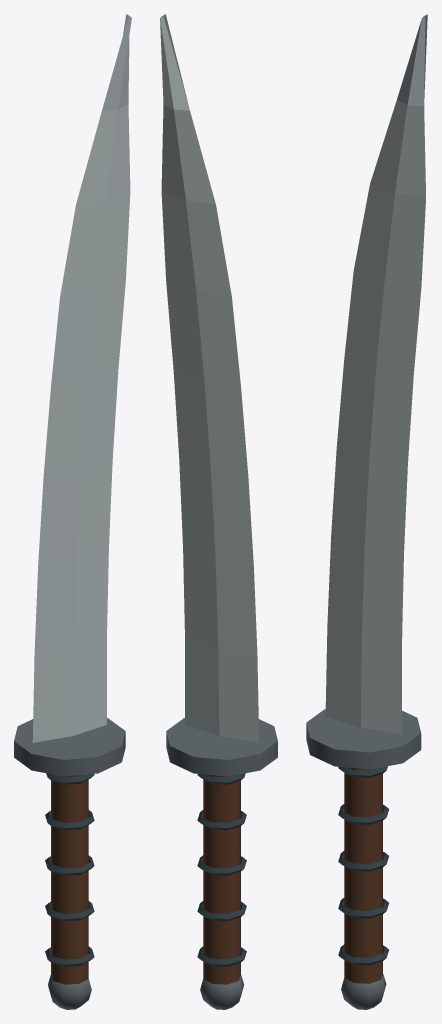
Rendered from sabre.glb.
3 views of the same model, side by side, from view 1: azimuth 30°, elevation 25°; view 2: azimuth 150°, elevation 25°; view 3: azimuth 330°, elevation 25° (orthographic). The views are drawn at different scales.
Visible parts, largest first — view 1: Sword; view 2: Sword; view 3: Sword.
Part boxes in pixels (box(x1,y1,x2,y2)): Sword: box(14, 14, 131, 1009); Sword: box(160, 14, 277, 1009); Sword: box(306, 14, 427, 1009).
Size of the model in its own units: 0.1089 by 0.945 by 0.1.
